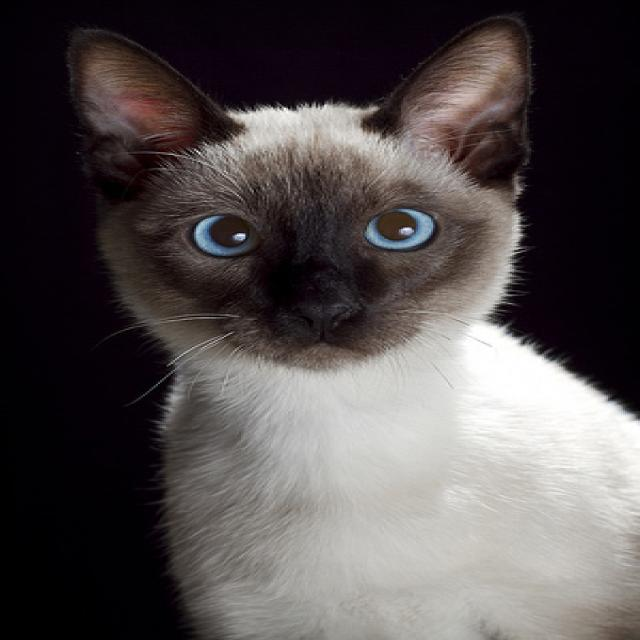Siamese: (53, 8, 639, 640)
